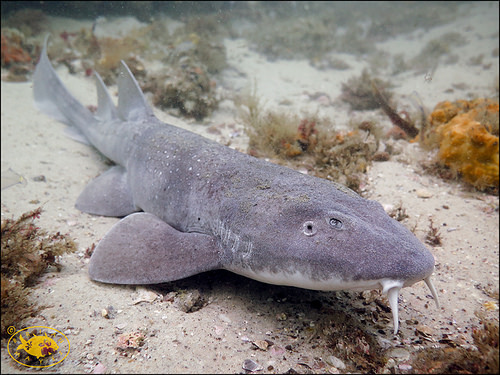shark: (21, 18, 455, 343)
